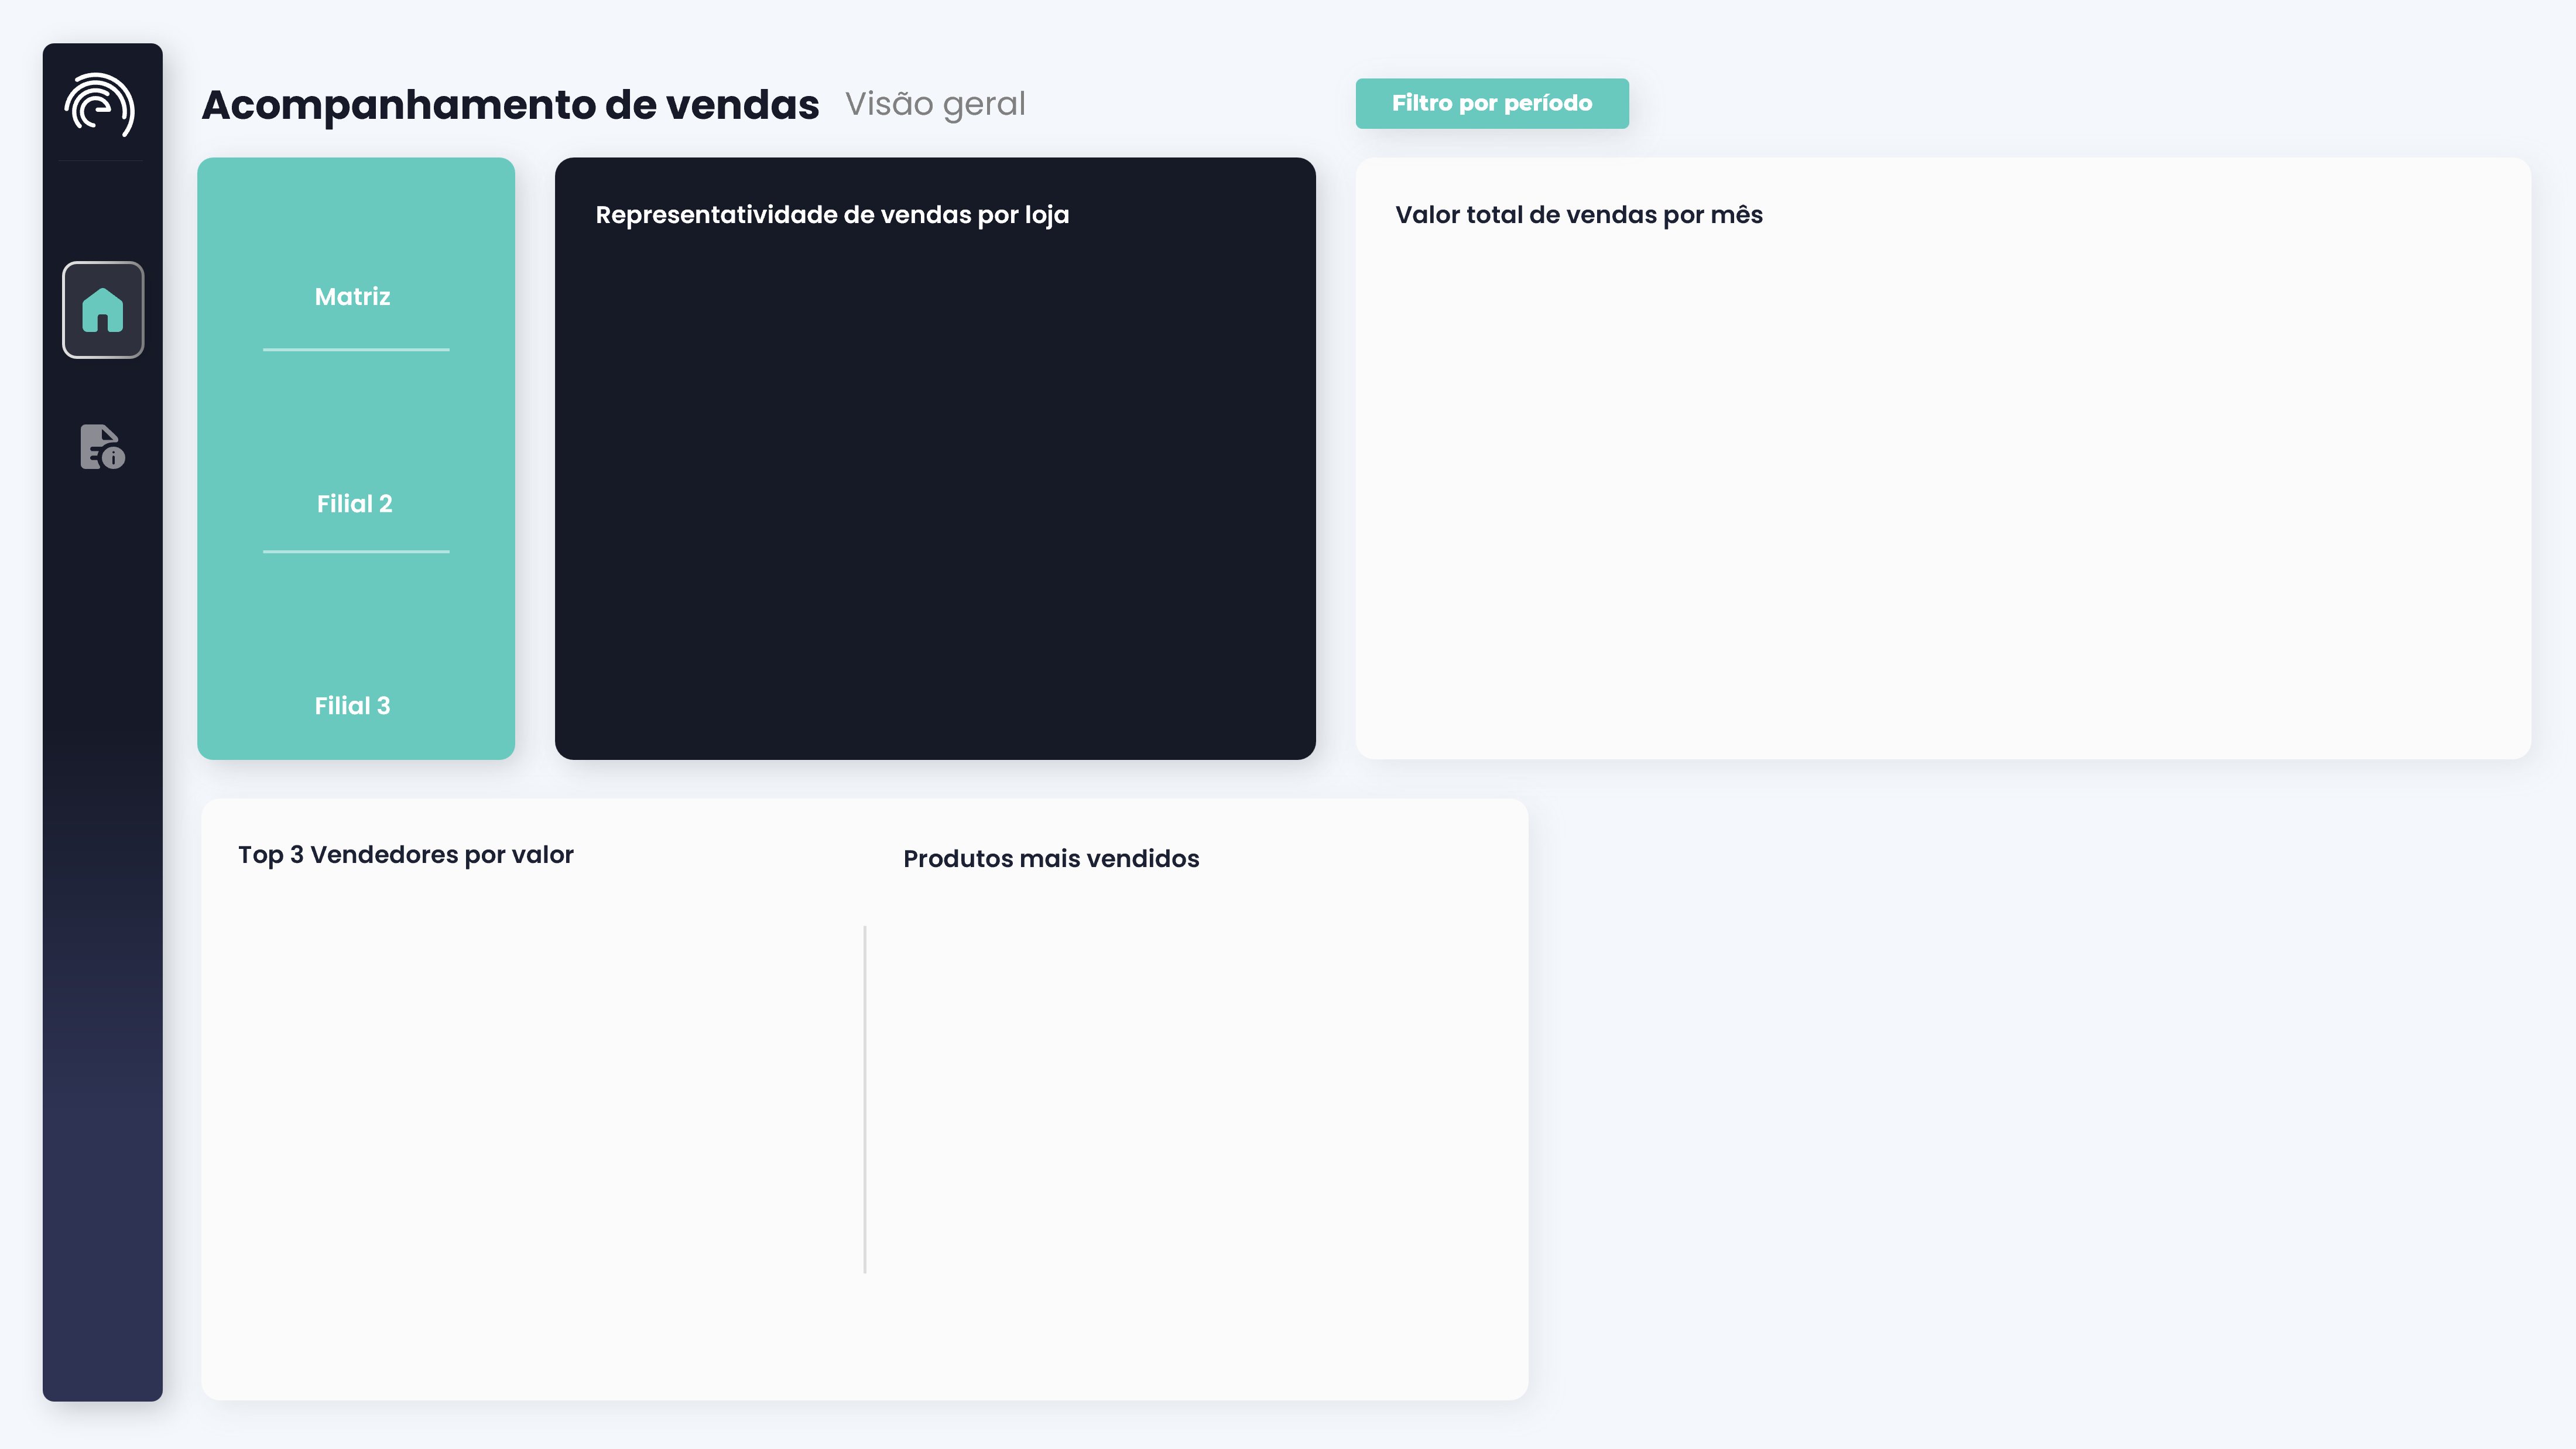

The page's visual inventory and layout, read from the dashboard file:
{"tool":"powerbi","page":{"name":"Visão Geral","canvas":[1280,720],"ordinal":0},"visuals":[{"type":"lineClusteredColumnComboChart","title":"Faturamento e Total de Pedidos por Período","fields":{"Category":["dCalendario.nomeMes","dCalendario.Date.Variation.Hierarquia de datas.Dia"],"Y":["Medidas.faturamento"],"Y2":["Medidas.qtde_pedidos"]},"box":[678.2,116,567.3,243.5],"z":0},{"type":"slicer","fields":{"Values":["dCalendario.ano"]},"box":[809.6,33.1,242.2,31.9],"z":1000},{"type":"donutChart","title":"Representatividade de Faturamento","fields":{"Y":["Medidas.faturamento"],"Category":["dLoja.TipoLoja"]},"box":[281.8,116,369.7,258.8],"z":2000},{"type":"clusteredBarChart","title":"Top 3 Vendedores por Faturamento","fields":{"Category":["dVendedor.NomeVendedor"],"Y":["Medidas.faturamento"]},"box":[88,458.7,346,190],"z":3000},{"type":"treemap","fields":{"Values":["Medidas.qtde_pedidos"],"Group":["dProdutos.Descricao Produto"]},"box":[427.1,459,332.7,216.7],"z":4000},{"type":"map","fields":{"Category":["dLoja.Cidade"],"Size":["Medidas.faturamento"]},"box":[775.1,393.9,489.6,304.7],"z":5000},{"type":"card","fields":{"Values":["Medidas.fat_matriz"]},"box":[98.2,84.1,156.8,62.5],"z":6000},{"type":"card","fields":{"Values":["Medidas.fat_filial2"]},"box":[98.2,183.6,156.8,62.5],"z":7000},{"type":"card","fields":{"Values":["Medidas.fat_filial3"]},"box":[98.2,286.9,156.8,62.5],"z":8000},{"type":"actionButton","box":[22.5,205,52.5,40],"z":8001}]}

Visuals, with their boxes on the page's 1280x720 design canvas (x1, y1, x2, y2). These are canvas units, not pixel positions in the 2576x1449 screenshot, which may show the page scaled, cropped or inside an application window:
"Faturamento e Total de Pedidos por Período" lineClusteredColumnComboChart: box(678, 116, 1246, 360)
slicer - dCalendario.ano: box(810, 33, 1052, 65)
"Representatividade de Faturamento" donutChart: box(282, 116, 652, 375)
"Top 3 Vendedores por Faturamento" clusteredBarChart: box(88, 459, 434, 649)
treemap - Medidas.qtde_pedidos x dProdutos.Descricao Produto: box(427, 459, 760, 676)
map - dLoja.Cidade x Medidas.faturamento: box(775, 394, 1265, 699)
card - Medidas.fat_matriz: box(98, 84, 255, 147)
card - Medidas.fat_filial2: box(98, 184, 255, 246)
card - Medidas.fat_filial3: box(98, 287, 255, 349)
actionButton: box(22, 205, 75, 245)
